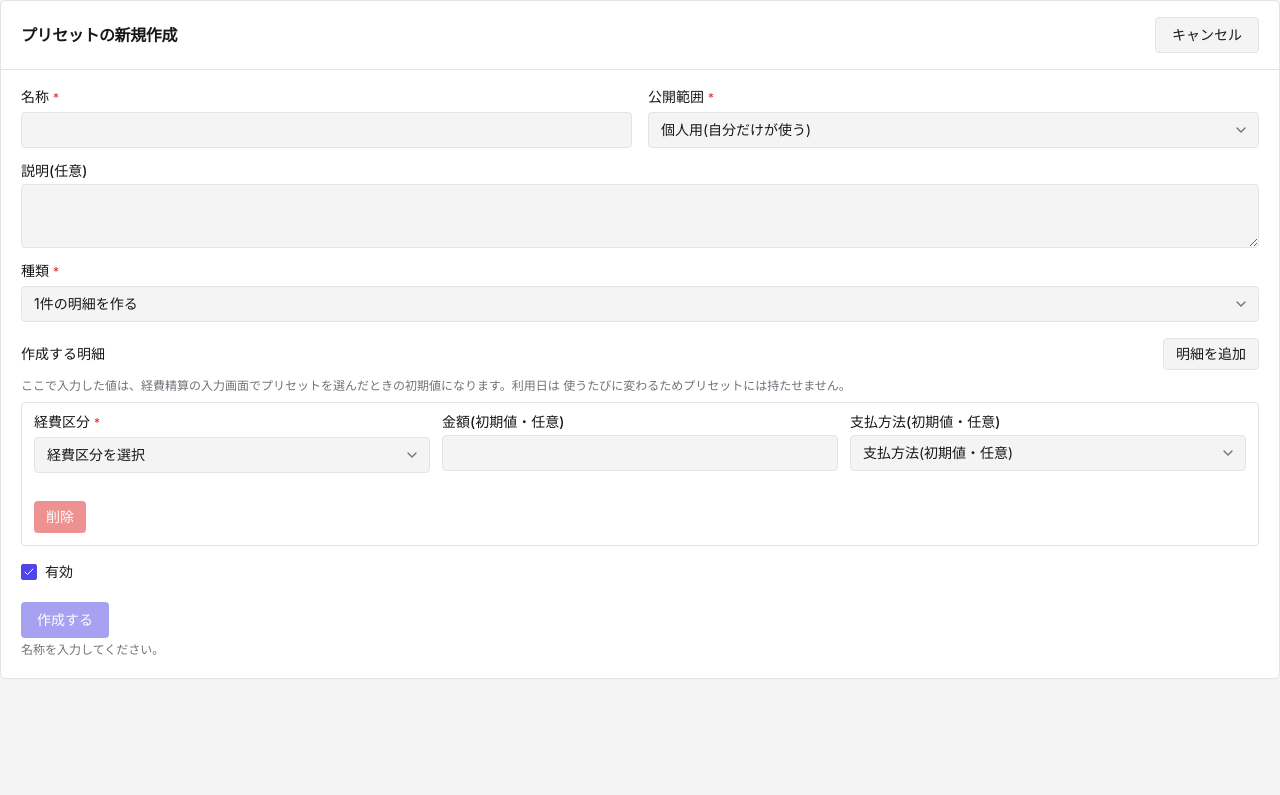
Test case: ExpenseEntryPresetEditPage › adds and removes definition item rows
Check: the field labelled "名称" is shown, box [21, 112, 632, 148]
Click the button "明細を追加" at (1211, 354), box [1163, 338, 1259, 370]
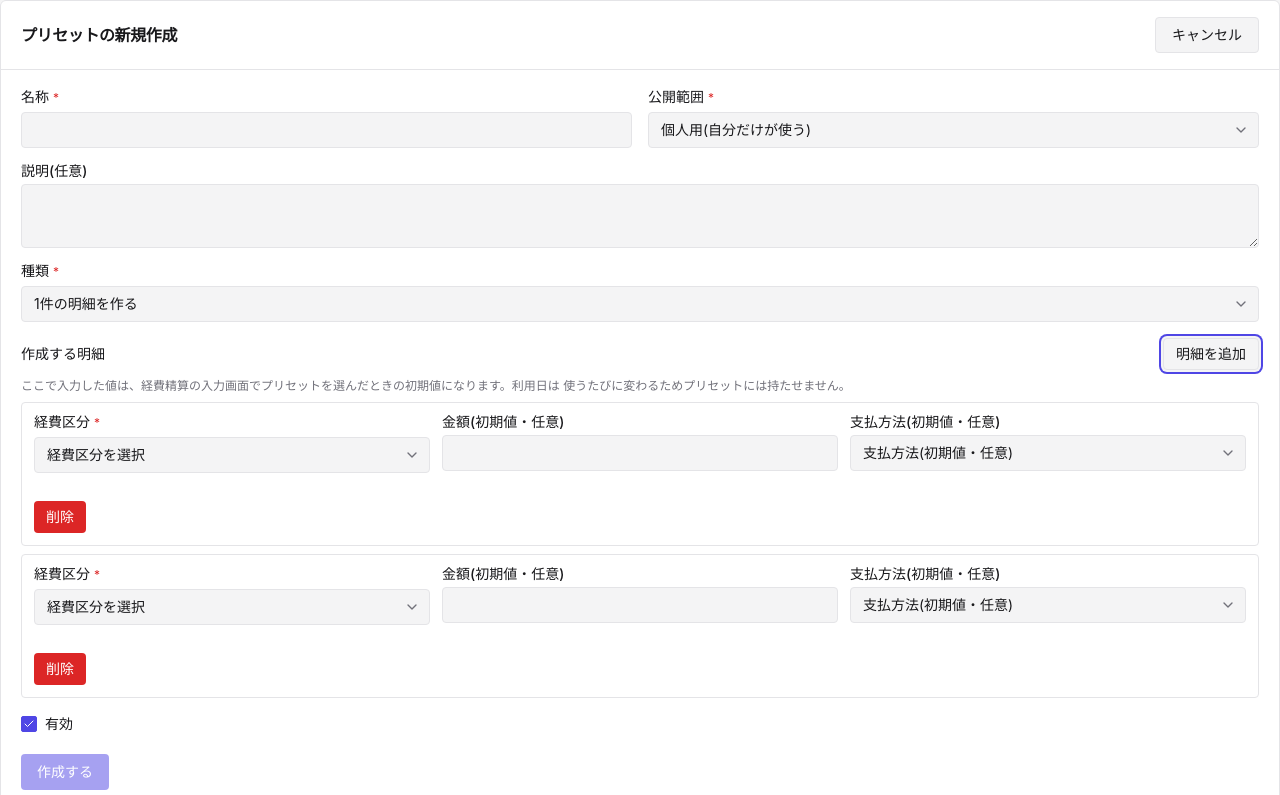
Check: the dropdown named "2番目の明細の経費区分" is shown, box [34, 589, 430, 625]
Click the 2nd button "削除" at (60, 669), box [34, 653, 86, 685]
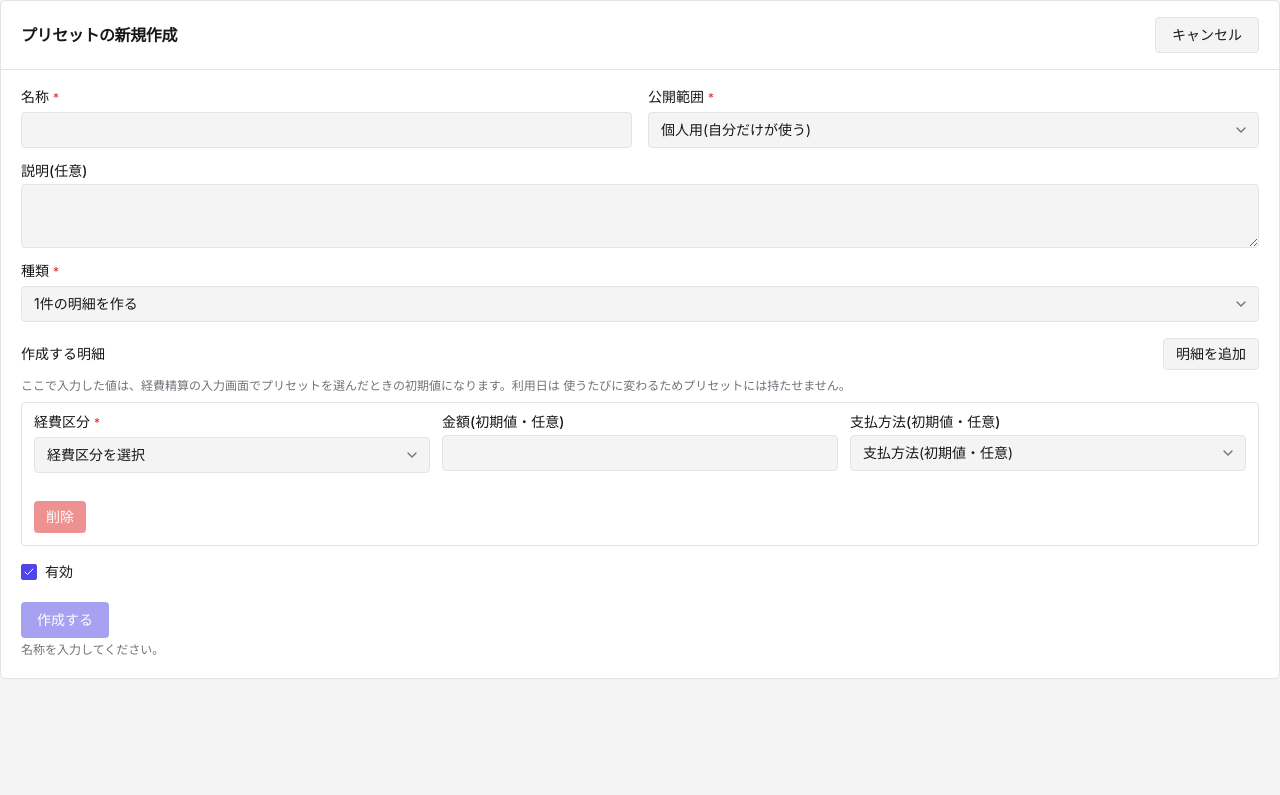
Check: the dropdown labelled "2番目の明細の経費区分" is gone
